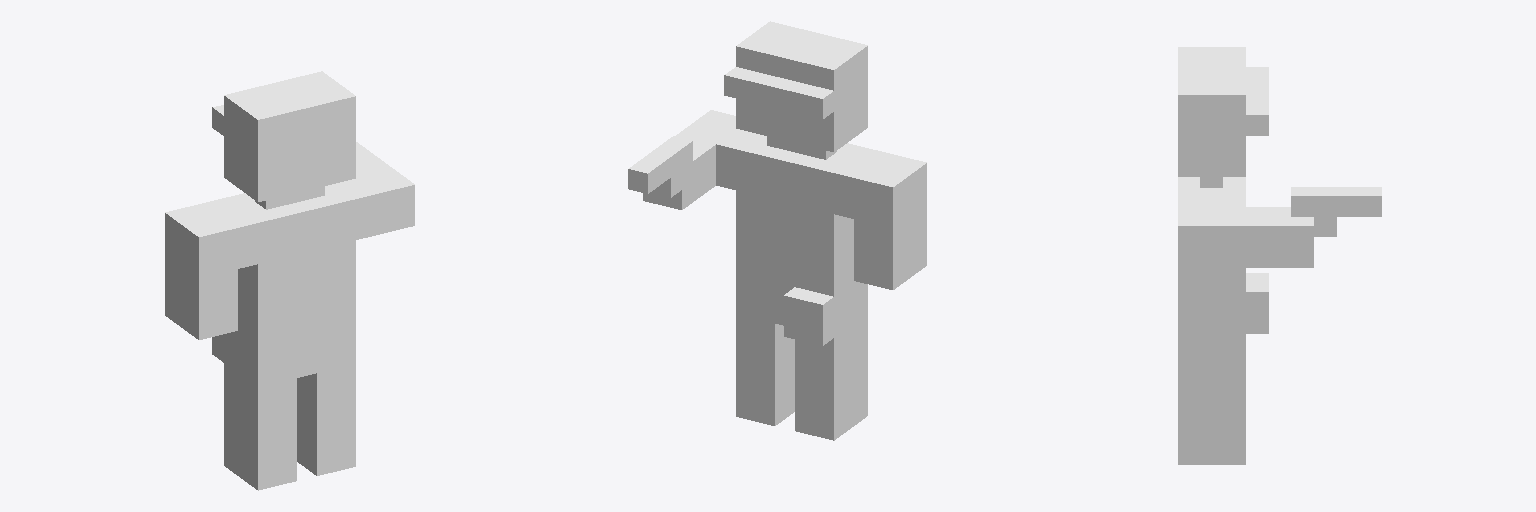
Rendered from Cop1.obj.
3 renders of one model, left to right at view 1: azimuth 30°, elevation 25°; view 2: azimuth 150°, elevation 25°; view 3: azimuth 270°, elevation 25°, orthographic.
Bounding box in the file's own units: 11 × 18 × 9.